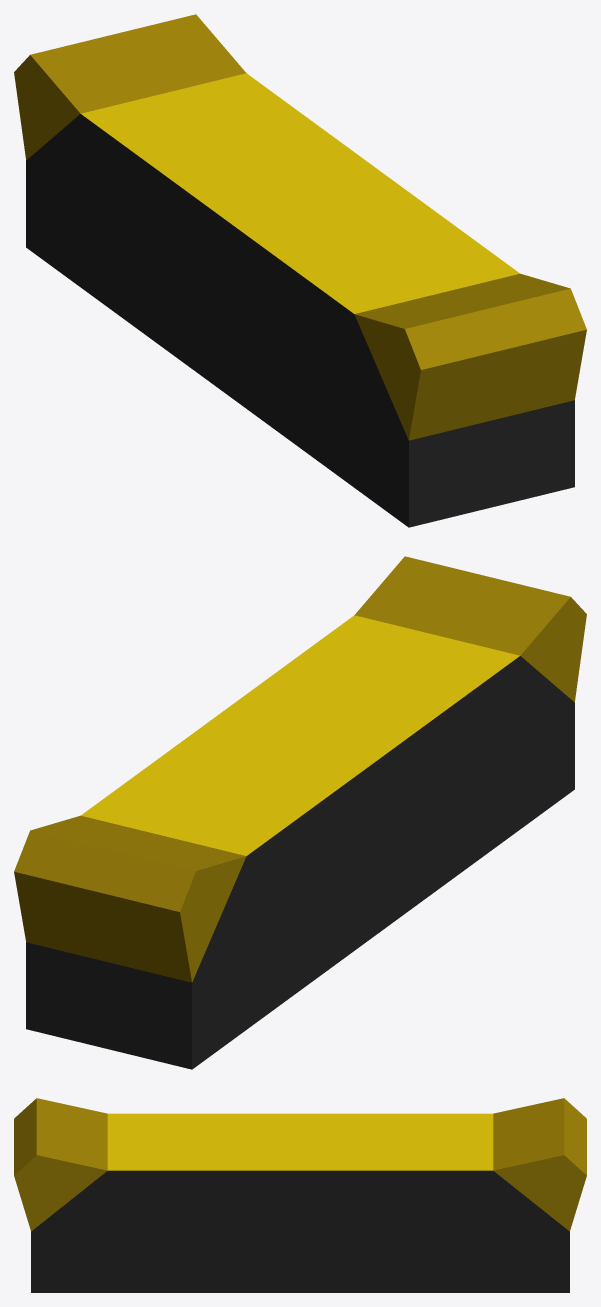
File: BloccoBase.fbx
The picture shows the model from 3 angles, top to bottom: view 1: azimuth 30°, elevation 25°; view 2: azimuth 150°, elevation 25°; view 3: azimuth 270°, elevation 25°; orthographic projection. The views are drawn at different scales.
Parts seen in each view (by area): view 1: Cube; view 2: Cube; view 3: Cube.
Part boxes in pixels (bbox=[...]): Cube: bbox=[14, 14, 586, 527]; Cube: bbox=[14, 556, 586, 1069]; Cube: bbox=[14, 1098, 586, 1292].
Size of the model in its own units: 200 by 225 by 849.
